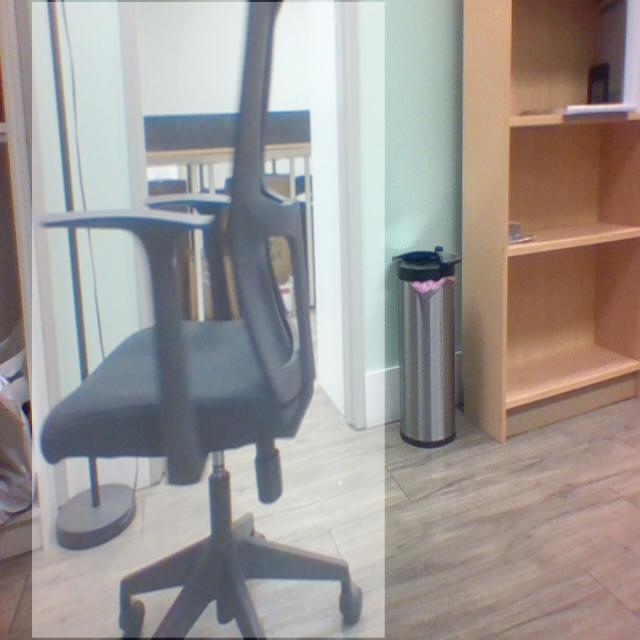chair: (29, 0, 367, 640)
